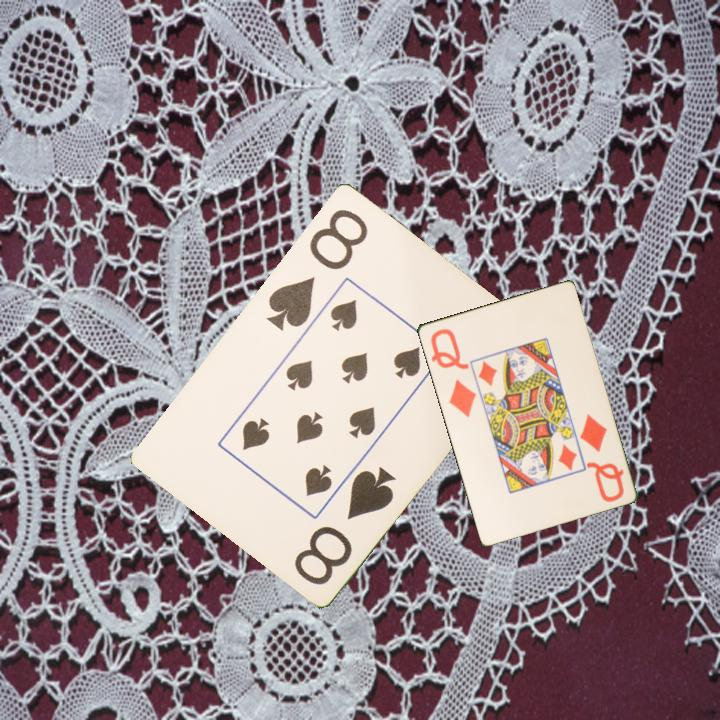8s: (263, 204, 372, 333), (290, 462, 399, 588)
Qd: (427, 325, 479, 420), (576, 410, 627, 506)
